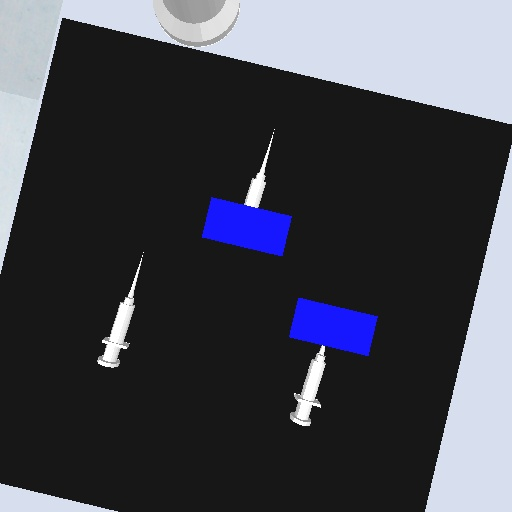jeringuilla: (94, 249, 147, 371), (288, 344, 328, 429), (240, 126, 279, 210)
